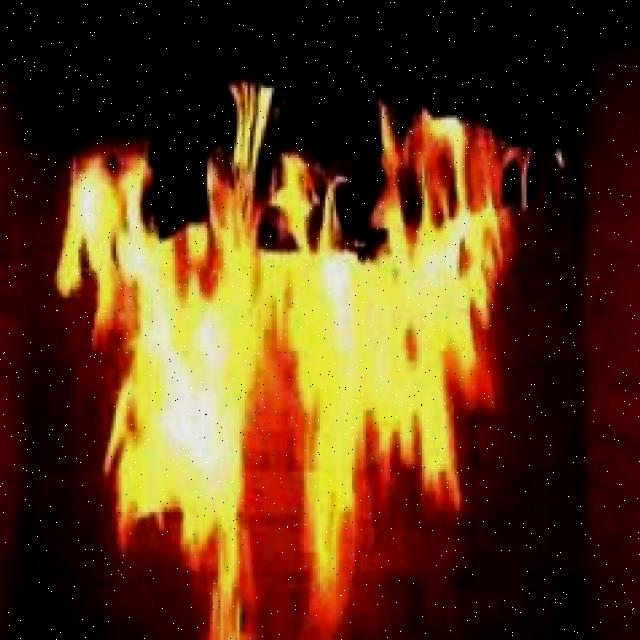fire: (95, 171, 502, 639)
